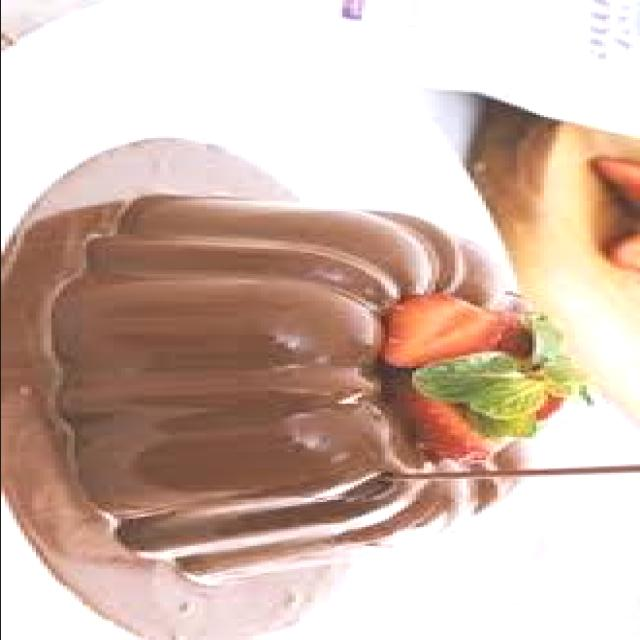puding: (50, 197, 570, 584)
